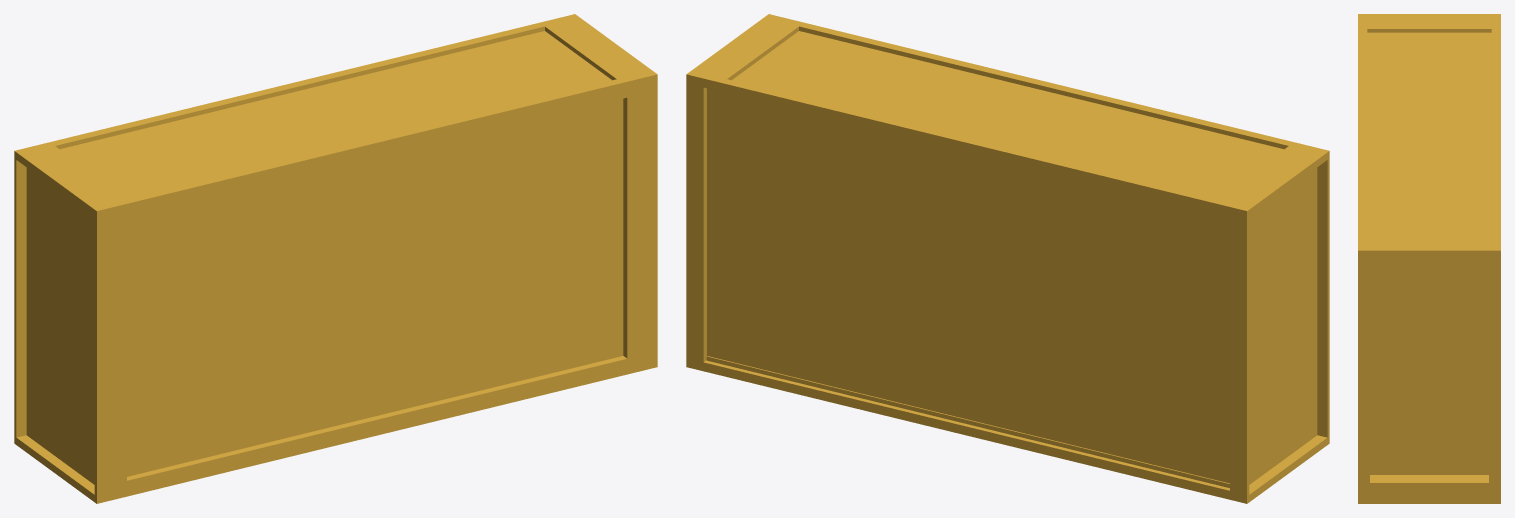
The model's file is yellowgrass.fbx.
The picture shows the model from 3 angles, left to right: view 1: azimuth 30°, elevation 25°; view 2: azimuth 150°, elevation 25°; view 3: azimuth 270°, elevation 25°; orthographic projection. The views are drawn at different scales.
Visible parts, largest first — view 1: Cube; view 2: Cube; view 3: Cube.
Part boxes in pixels (x1,y1,x2,y2): Cube: (14, 14, 657, 503); Cube: (686, 14, 1329, 503); Cube: (1358, 14, 1500, 503).
Bounding box in the file's own units: 376 × 188 × 95.84.
